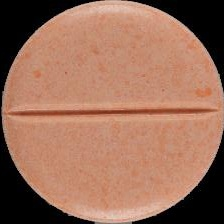49999-245: (0, 0, 224, 224)
